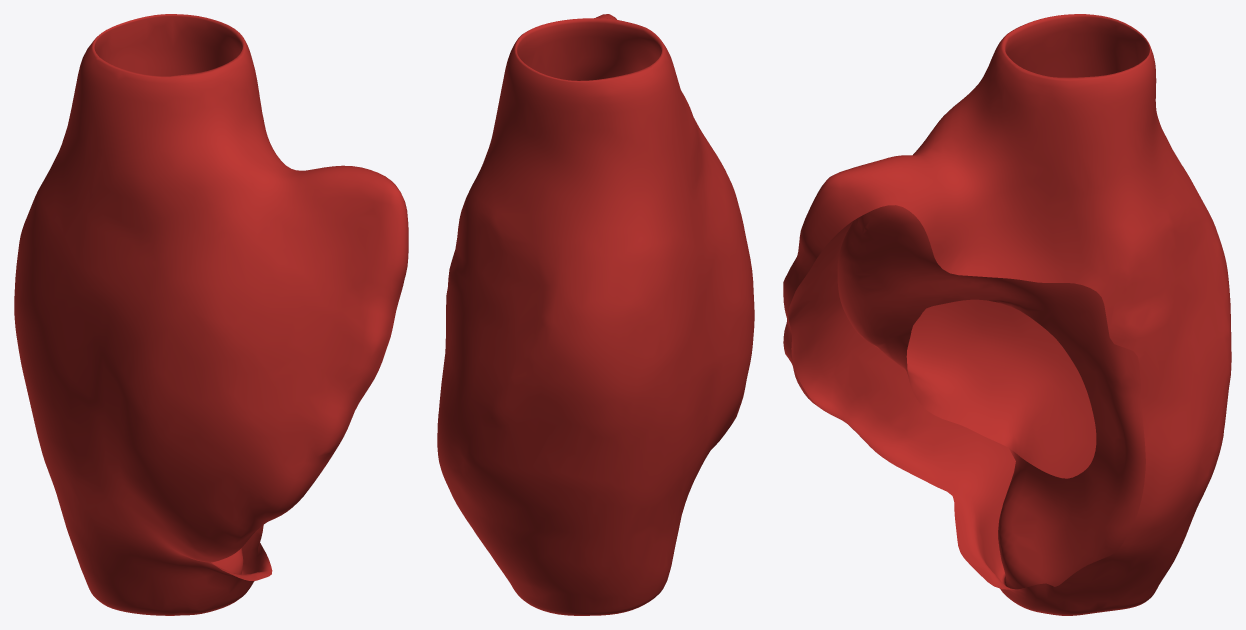
The model's file is circulatorio-right-atrium.glb.
3 renders of one model, left to right at view 1: azimuth 30°, elevation 25°; view 2: azimuth 150°, elevation 25°; view 3: azimuth 270°, elevation 25°, orthographic.
Visible parts, largest first — view 1: Right atrium; view 2: Right atrium; view 3: Right atrium.
Part boxes in pixels (box(x1,y1,x2,y2)): Right atrium: box(14, 14, 408, 615); Right atrium: box(437, 14, 754, 615); Right atrium: box(783, 14, 1231, 615).
Bounding box in the file's own units: 0.0447 × 0.0986 × 0.0737.
